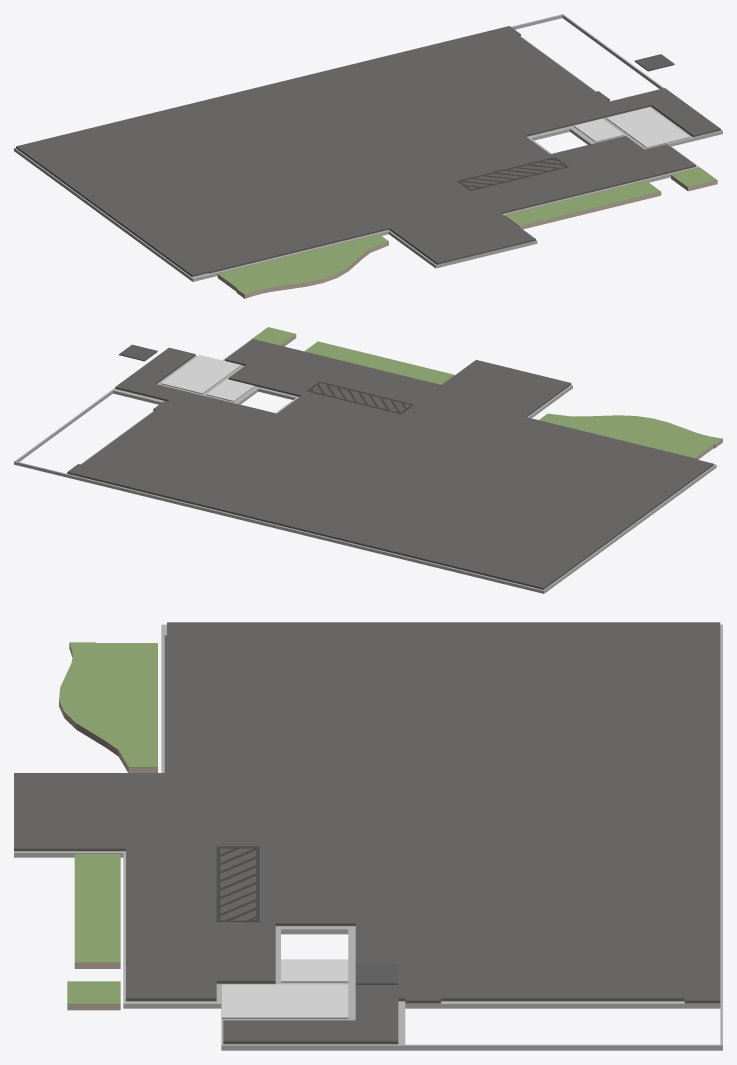
Rendered from PROJETO BIM 12 ANDARES_T_rreo_IfcSlab.dae.
The picture shows the model from 3 angles, top to bottom: view 1: azimuth 30°, elevation 25°; view 2: azimuth 150°, elevation 25°; view 3: azimuth 270°, elevation 25°; orthographic projection. The views are drawn at different scales.
Visible parts, largest first — view 1: 2IWF7q_810JR9mgF8YoyPR, 2F2CDKYi1AxBoSQbLkhZg5, 1vriJPJyz2QPRd1tUIuCsq, 36TUjxb_16bQcZ1KQ$ZH2q, 2IWF7q_810JR9mgF8YoyzO, 1dgTlpsF5FavBPG93ikbi3, 1vriJPJyz2QPRd1tUIuCX$, 2AIzB1jz12jv60vYICz0yB; view 2: 2IWF7q_810JR9mgF8YoyPR, 1vriJPJyz2QPRd1tUIuCsq, 2F2CDKYi1AxBoSQbLkhZg5, 36TUjxb_16bQcZ1KQ$ZH2q, 2IWF7q_810JR9mgF8YoyzO, 1dgTlpsF5FavBPG93ikbi3, 2AIzB1jz12jv60vYICz0yB, 1vriJPJyz2QPRd1tUIuCX$; view 3: 2IWF7q_810JR9mgF8YoyPR, 1vriJPJyz2QPRd1tUIuCsq, 2F2CDKYi1AxBoSQbLkhZg5, 36TUjxb_16bQcZ1KQ$ZH2q, 2IWF7q_810JR9mgF8YoyzO, 1dgTlpsF5FavBPG93ikbi3, 2AIzB1jz12jv60vYICz0yB, 1vriJPJyz2QPRd1tUIuCX$, 3YynLUipX9FRAfmcW6X2h_.
Boxes of the visible parts, x1,y1,x2,y2 form: 2IWF7q_810JR9mgF8YoyPR: (16, 26, 720, 277); 2F2CDKYi1AxBoSQbLkhZg5: (217, 234, 388, 298); 1vriJPJyz2QPRd1tUIuCsq: (14, 14, 722, 281); 36TUjxb_16bQcZ1KQ$ZH2q: (505, 181, 661, 229); 2IWF7q_810JR9mgF8YoyzO: (606, 107, 689, 148); 1dgTlpsF5FavBPG93ikbi3: (457, 157, 568, 190); 1vriJPJyz2QPRd1tUIuCX$: (671, 167, 717, 191); 2AIzB1jz12jv60vYICz0yB: (574, 119, 623, 142); 2IWF7q_810JR9mgF8YoyPR: (67, 339, 713, 589); 1vriJPJyz2QPRd1tUIuCsq: (14, 339, 716, 593); 2F2CDKYi1AxBoSQbLkhZg5: (539, 413, 722, 459); 36TUjxb_16bQcZ1KQ$ZH2q: (304, 341, 454, 384); 2IWF7q_810JR9mgF8YoyzO: (161, 355, 241, 394); 1dgTlpsF5FavBPG93ikbi3: (307, 381, 413, 414); 2AIzB1jz12jv60vYICz0yB: (206, 379, 254, 401); 1vriJPJyz2QPRd1tUIuCX$: (251, 327, 296, 346); 2IWF7q_810JR9mgF8YoyPR: (14, 622, 720, 1044); 1vriJPJyz2QPRd1tUIuCsq: (14, 624, 722, 1050); 2F2CDKYi1AxBoSQbLkhZg5: (59, 642, 157, 772); 36TUjxb_16bQcZ1KQ$ZH2q: (74, 854, 120, 968); 2IWF7q_810JR9mgF8YoyzO: (222, 984, 348, 1018); 1dgTlpsF5FavBPG93ikbi3: (216, 846, 259, 921); 2AIzB1jz12jv60vYICz0yB: (281, 959, 348, 982); 1vriJPJyz2QPRd1tUIuCX$: (67, 981, 120, 1010); 3YynLUipX9FRAfmcW6X2h_: (355, 963, 398, 984).
Size of the model in its own units: 27.99 by 19.93 by 2.
